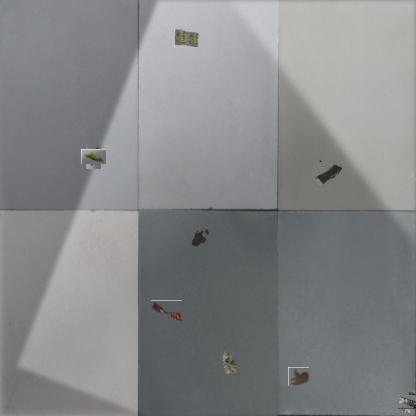dirty: (313, 161, 341, 189), (150, 300, 182, 323), (219, 349, 239, 375), (174, 28, 199, 48), (84, 147, 103, 166), (399, 392, 416, 411)
liquid: (288, 366, 309, 387), (190, 227, 210, 247)
